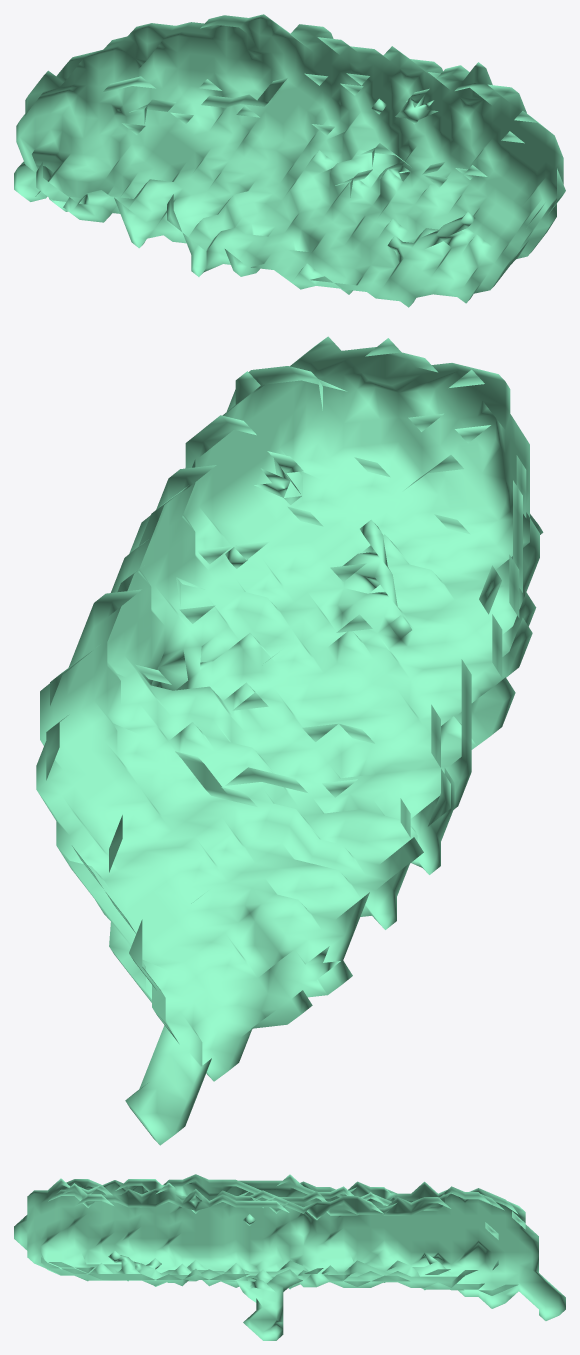
File: osteocyte_76.glb
The picture shows the model from 3 angles, top to bottom: view 1: azimuth 30°, elevation 25°; view 2: azimuth 150°, elevation 25°; view 3: azimuth 270°, elevation 25°; orthographic projection. The views are drawn at different scales.
Parts seen in each view (by area): view 1: osteocyte_76; view 2: osteocyte_76; view 3: osteocyte_76.
Part boxes in pixels (x1,y1,x2,y2): osteocyte_76: (14, 14, 565, 307); osteocyte_76: (36, 336, 543, 1145); osteocyte_76: (14, 1174, 565, 1340).
Bounding box in the file's own units: 7.6 × 7.6 × 18.33.
